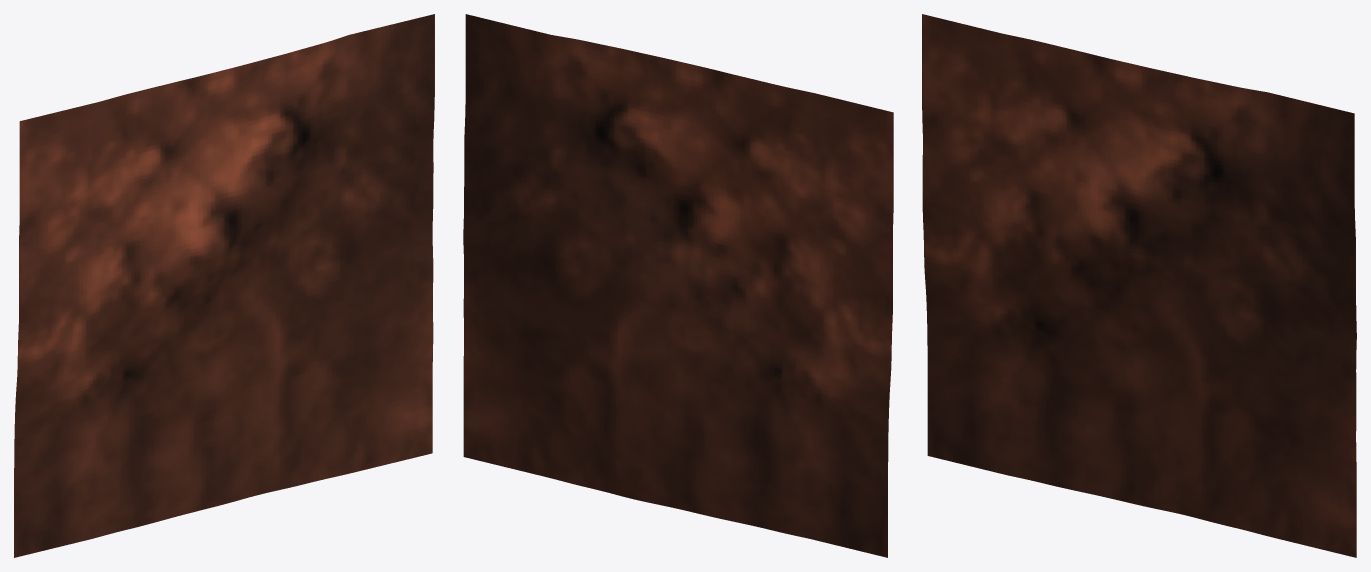
File: jezero_terrain.obj
3 renders of one model, left to right at view 1: azimuth 30°, elevation 25°; view 2: azimuth 150°, elevation 25°; view 3: azimuth 330°, elevation 25°, orthographic.
Visible parts, largest first — view 1: jezero_terrain; view 2: jezero_terrain; view 3: jezero_terrain.
Part boxes in pixels (x1,y1,x2,y2): jezero_terrain: (14, 14, 434, 557); jezero_terrain: (463, 14, 893, 557); jezero_terrain: (922, 14, 1356, 557).
Size of the model in its own units: 64 by 64 by 3.08.
